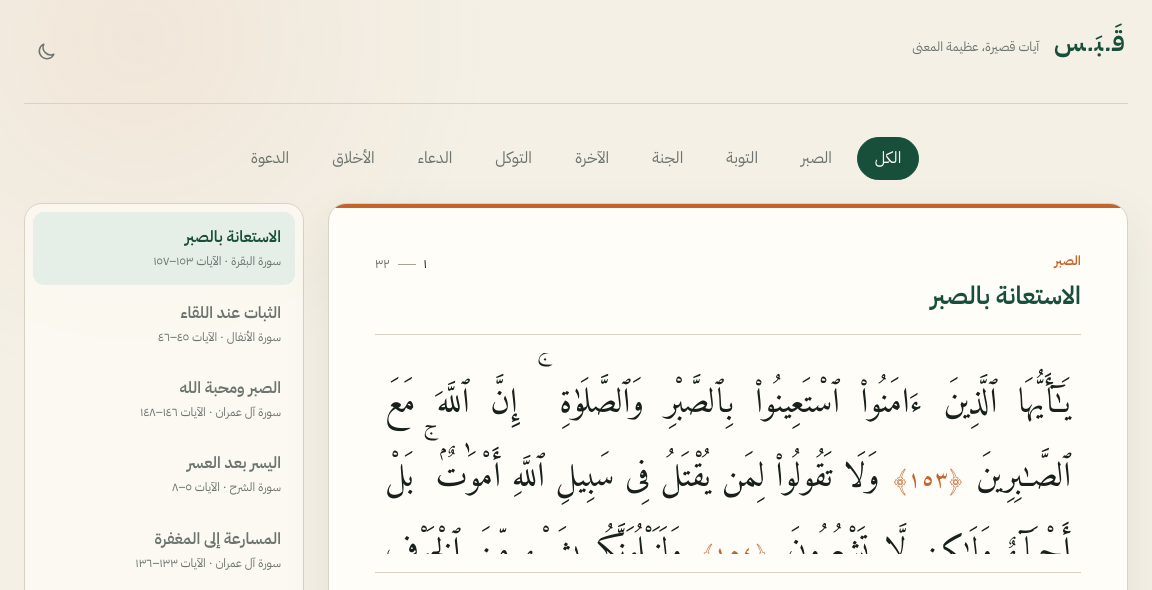
Test: Qabs › filters by topic and opens a passage from its index
Click the button "الدعاء": click(435, 159) [400,137,470,180]
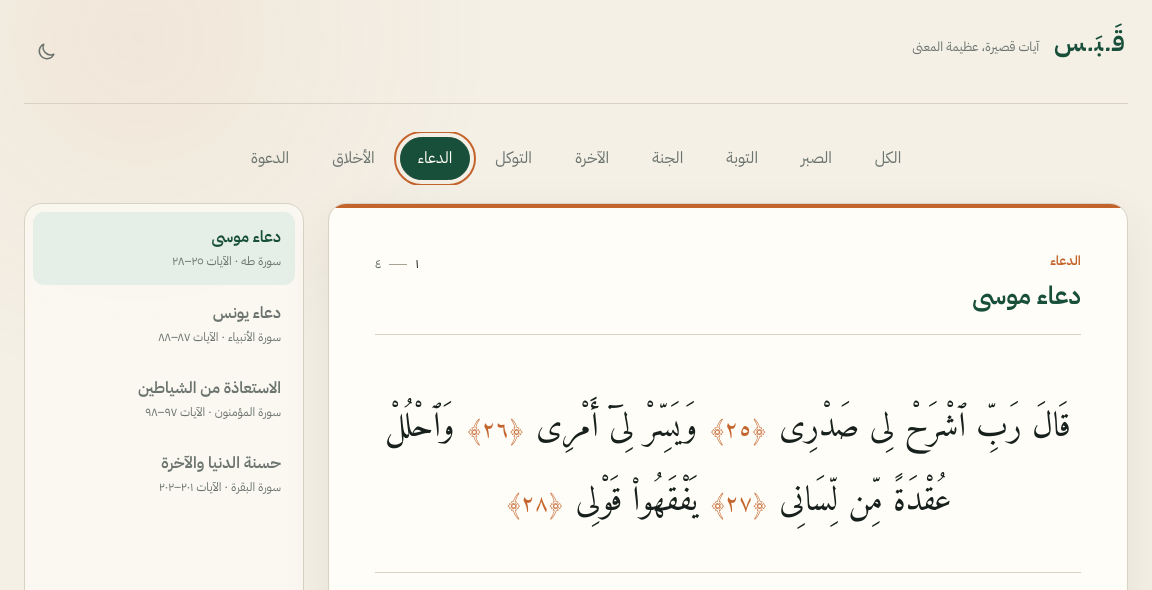
Now the heading "دعاء موسى" is shown, box [972,277,1081,316]
Click the button "دعاء يونس سورة الأنبياء · الآيات ٨٧–٨٨": click(247, 313) [33,288,295,360]
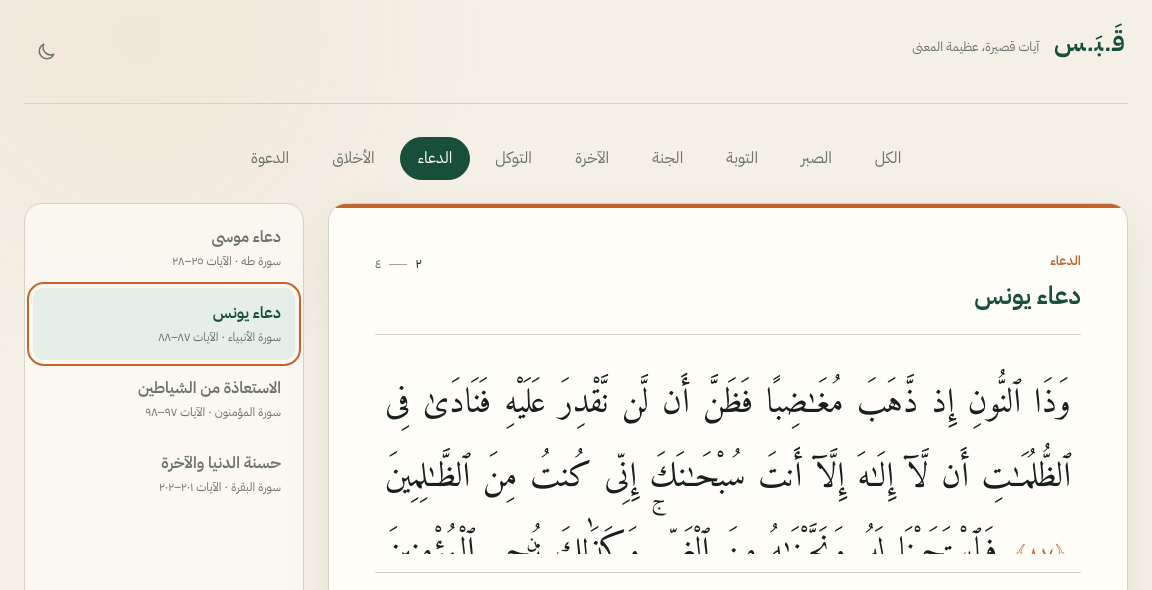
Now the heading "دعاء يونس" is shown, box [974,277,1081,316]
